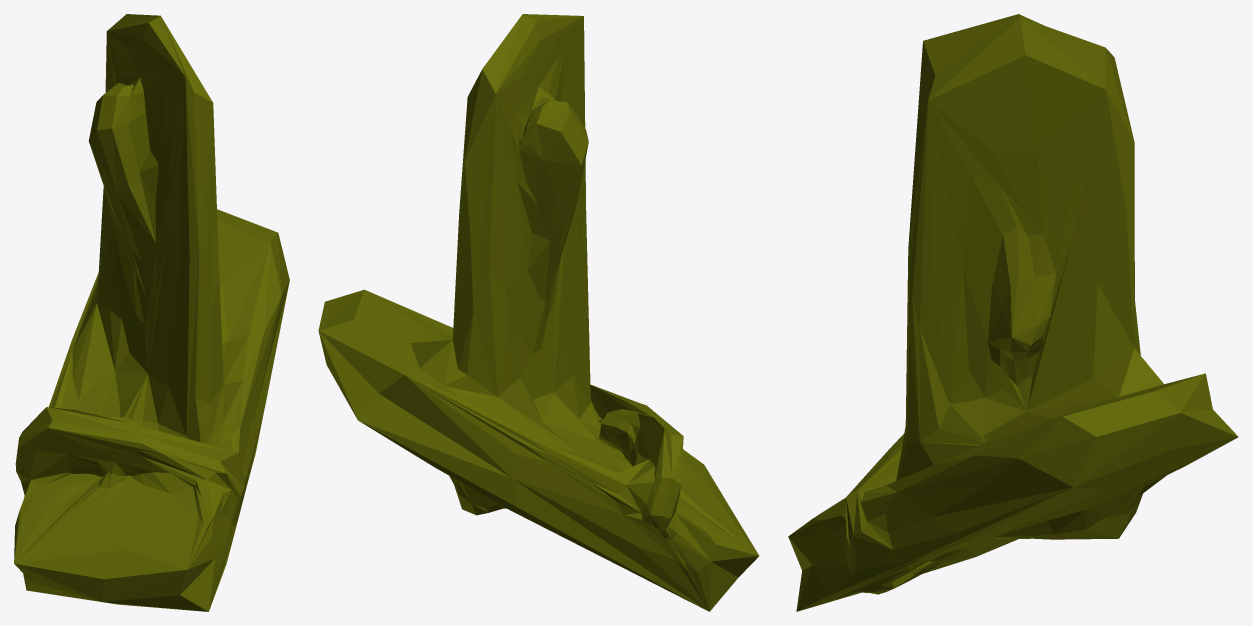
3 views of the same model, side by side, from view 1: azimuth 30°, elevation 25°; view 2: azimuth 150°, elevation 25°; view 3: azimuth 270°, elevation 25° (orthographic). The views are drawn at different scales.
Parts seen in each view (by area): view 1: 649_Cube.2609; view 2: 649_Cube.2609; view 3: 649_Cube.2609.
Part boxes in pixels (x1=…): 649_Cube.2609: x1=14, y1=14, x2=289, y2=611; 649_Cube.2609: x1=318, y1=14, x2=759, y2=611; 649_Cube.2609: x1=788, y1=14, x2=1238, y2=611.
Size of the model in its own units: 10.06 by 15.12 by 9.81.
